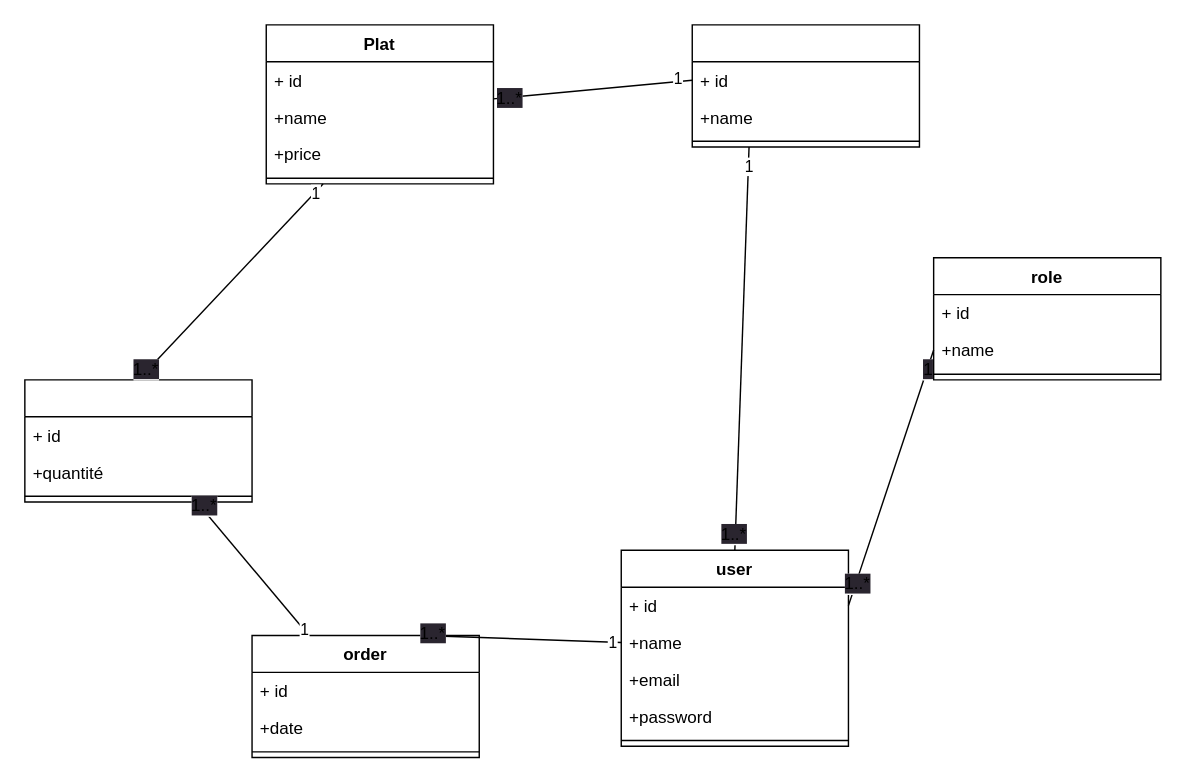
The diagram is 1186 pixels wide and 782 high, and some of its shapes have lost their labels. The box of each missing label's shape, as (x1, y1, x2, y2) in pixels:
Menu: (691, 23, 919, 147)
order_items: (23, 378, 252, 502)
